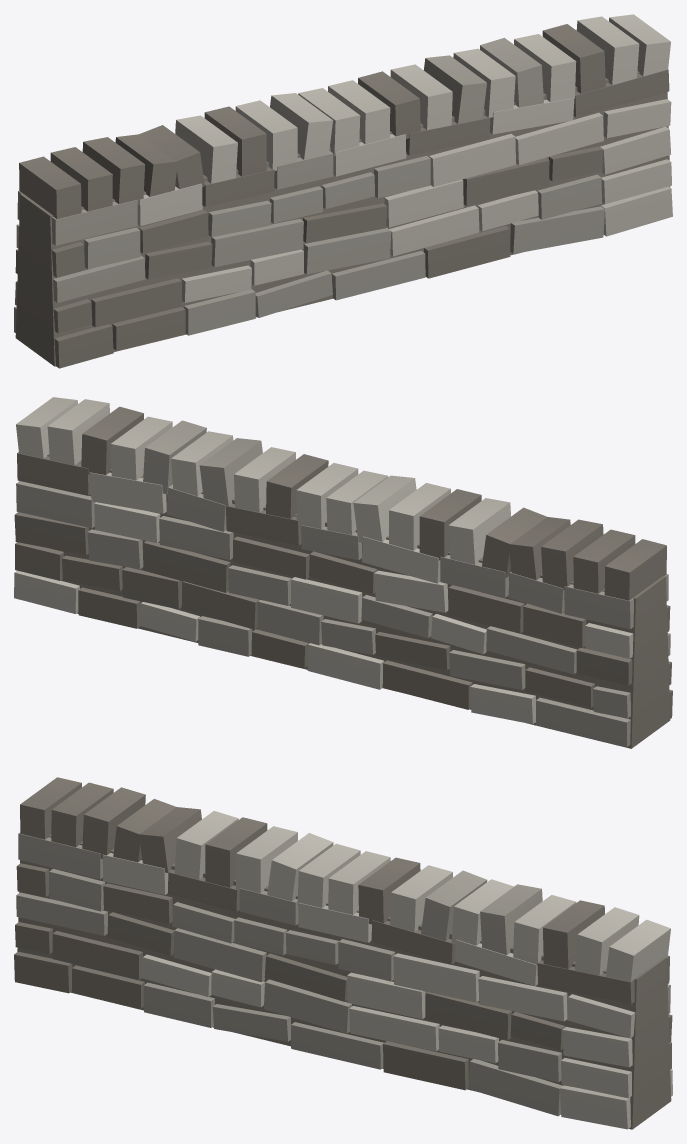
Rendered from SM_DryStoneWall.glb.
3 renders of one model, top to bottom at view 1: azimuth 30°, elevation 25°; view 2: azimuth 150°, elevation 25°; view 3: azimuth 330°, elevation 25°, orthographic.
Parts seen in each view (by area): view 1: SM_DryStoneWall; view 2: SM_DryStoneWall; view 3: SM_DryStoneWall.
Part boxes in pixels (x1,y1,x2,y2): SM_DryStoneWall: (14,14,672,368); SM_DryStoneWall: (14,397,672,748); SM_DryStoneWall: (14,777,672,1129).
Size of the model in its own units: 3.2 by 0.9107 by 0.407.
1 material, 1 textured.
